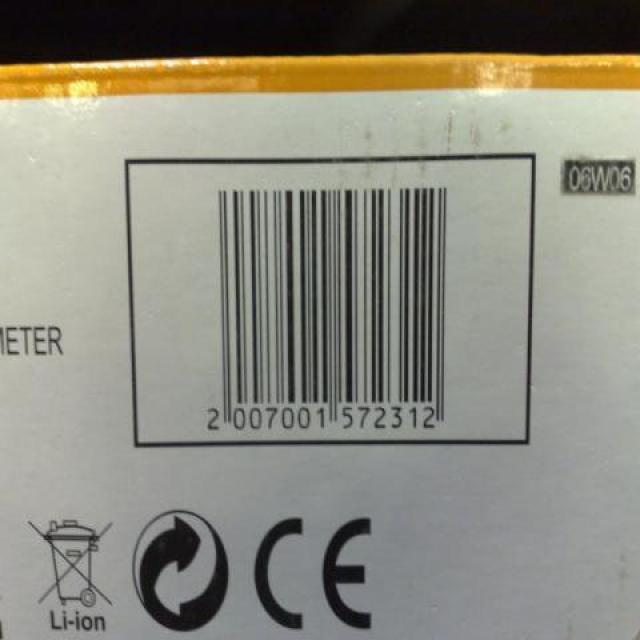Barcode: (123, 153, 536, 463)
